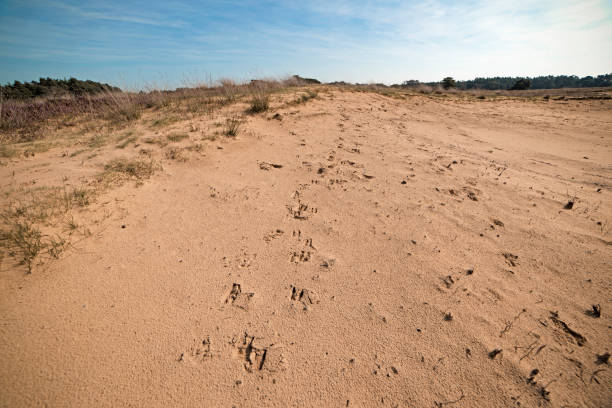animal_foot_print: (230, 332, 283, 371), (178, 336, 212, 362), (225, 283, 253, 309), (222, 248, 256, 267), (291, 286, 318, 307), (287, 200, 316, 219), (291, 250, 310, 263), (263, 229, 283, 241)
